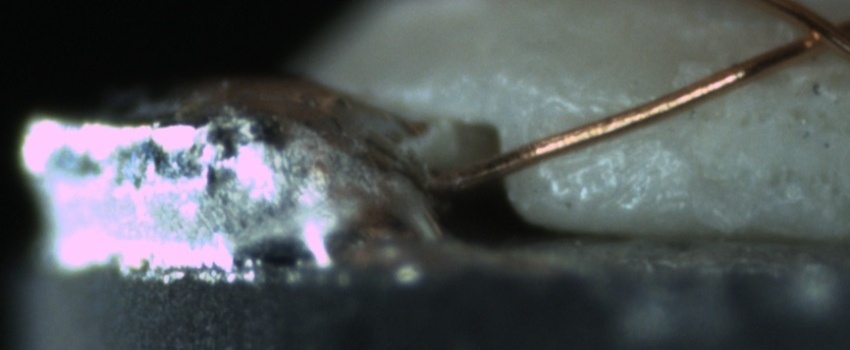CL: (778, 4, 848, 60)
